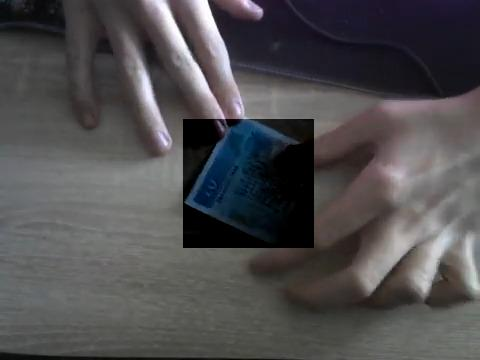20leva: (183, 119, 314, 248)
